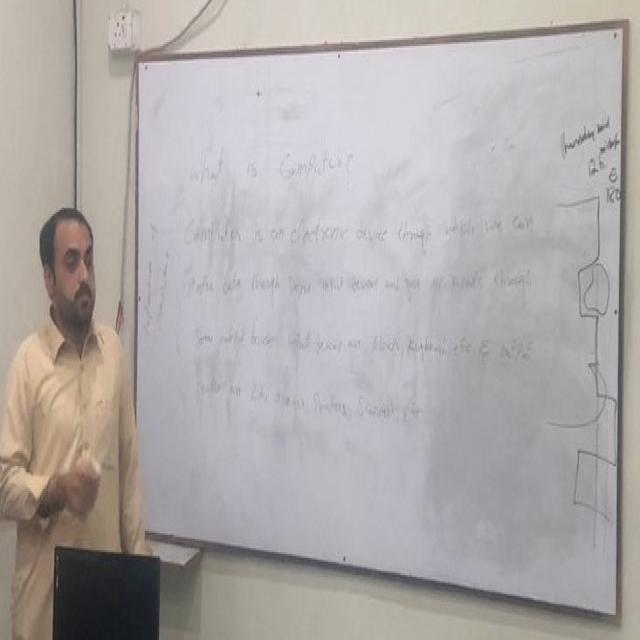Instructor: (19, 186, 125, 555)
White-board: (132, 22, 624, 613)
